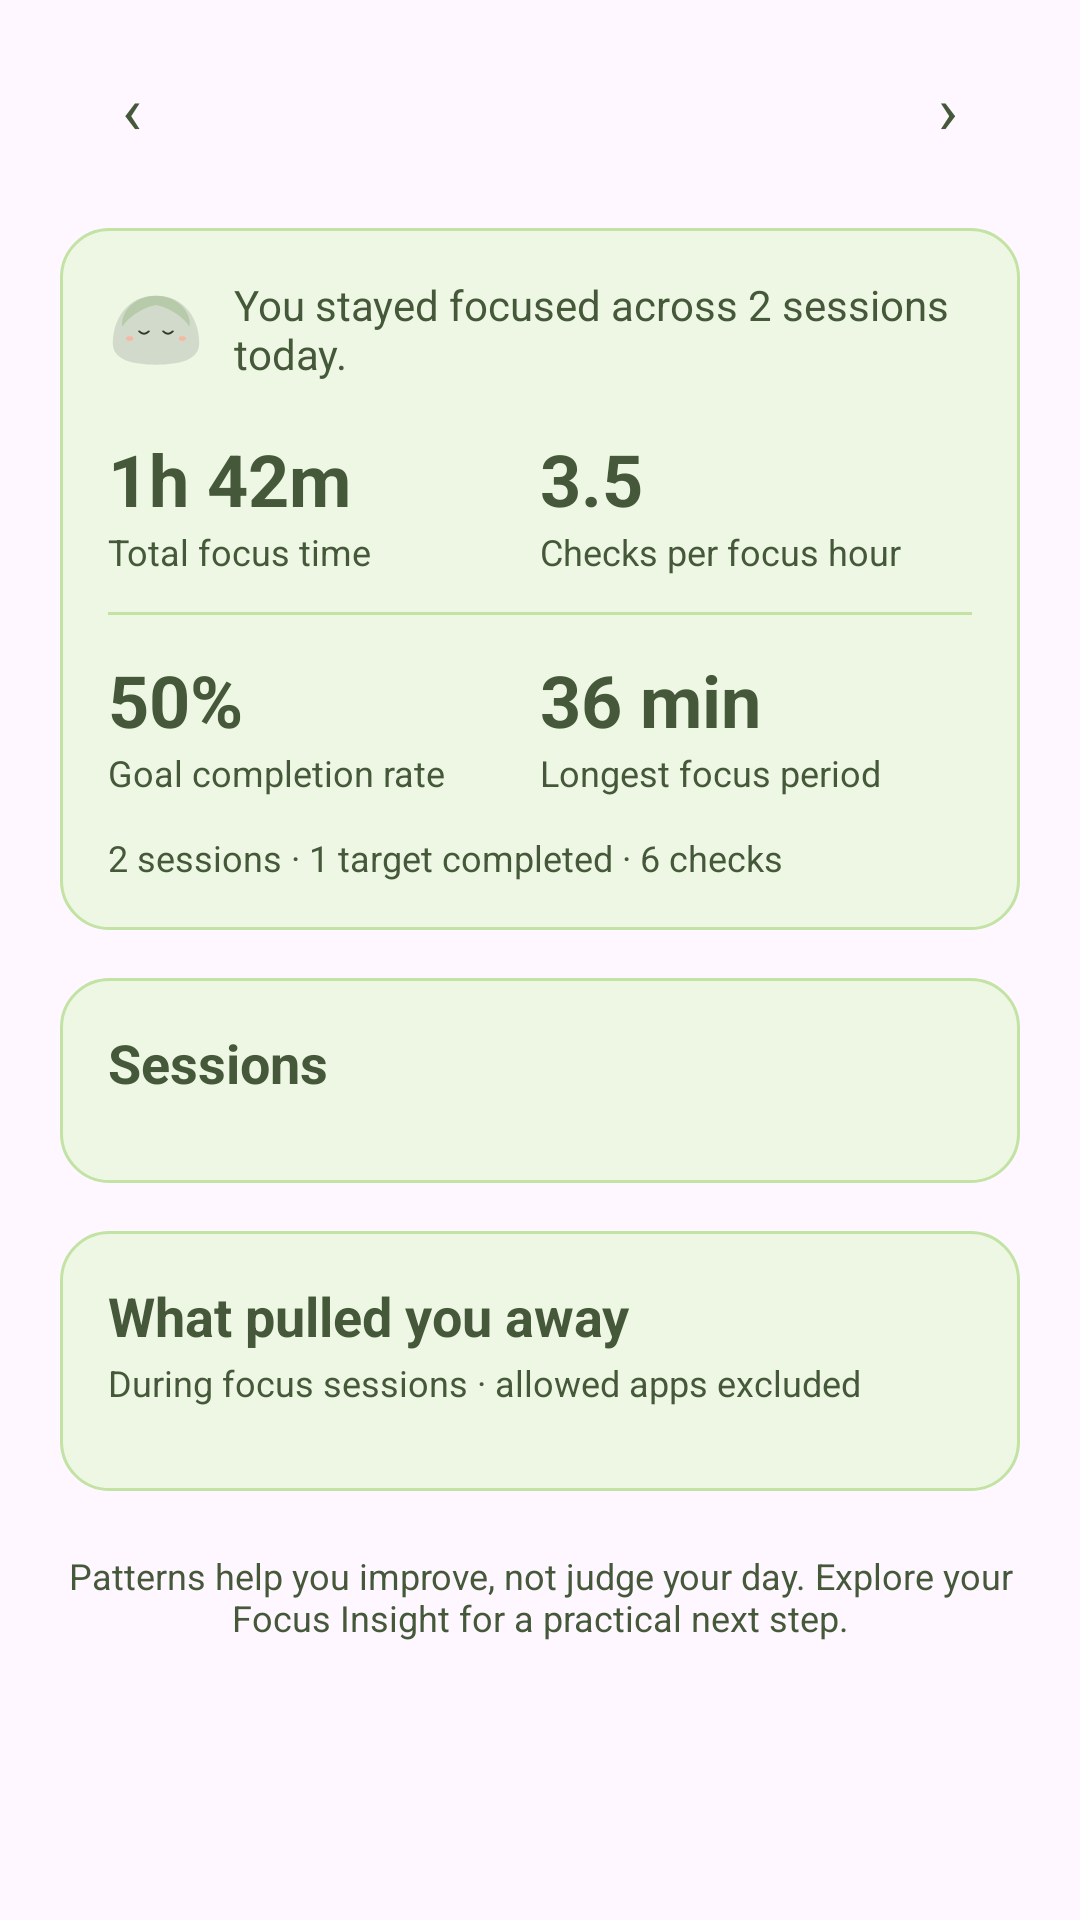

Named icons in this screenshot (1080w x 1920h) and their centers, [x,y]:
Calm stone: [156,330]
